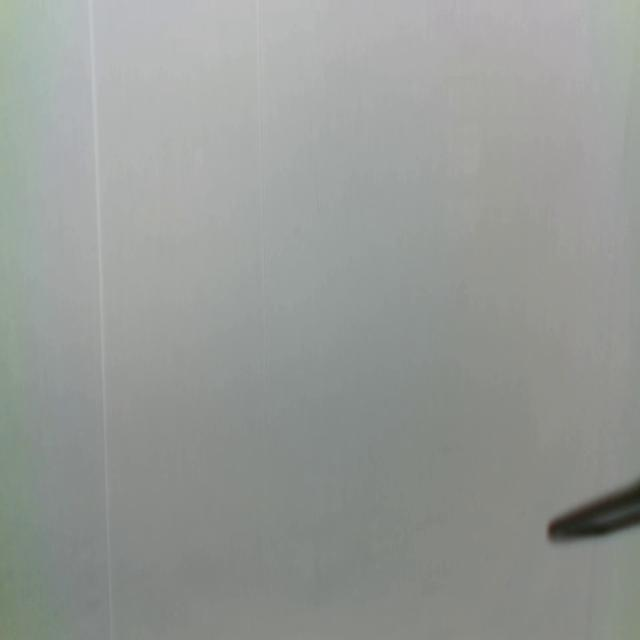crease: (88, 0, 116, 640), (255, 0, 270, 436)
